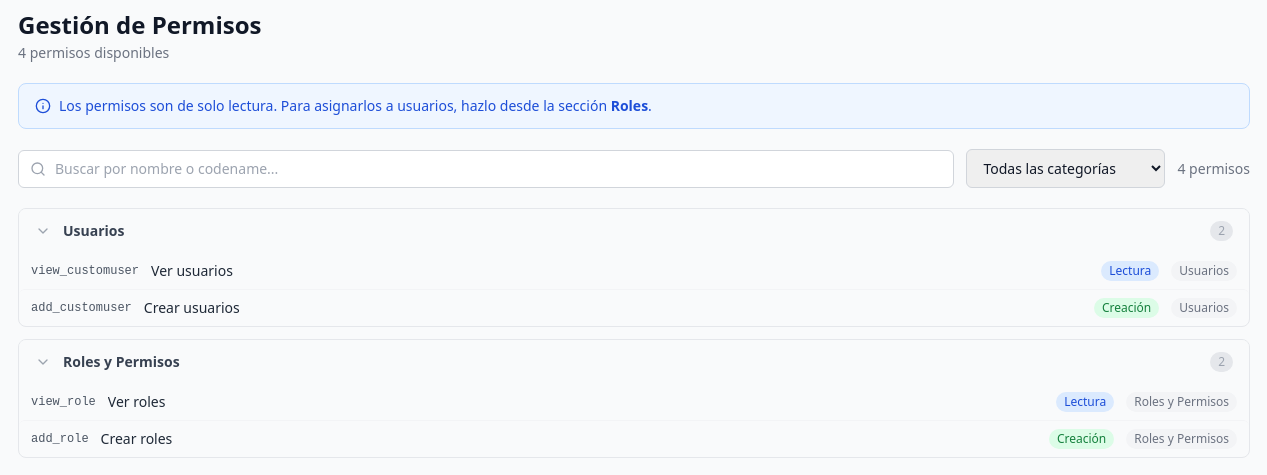
it: PermissionsPage › search filter narrows visible permissions
The width and height of the screenshot is (1267, 475).
# 'view_custom' matches 'view_customuser' but not 'add_customuser' or 'view_role'
In the field with placeholder "Buscar por nombre o codename...": (486, 168) x1=18 y1=150 x2=954 y2=188, type "view_custom"
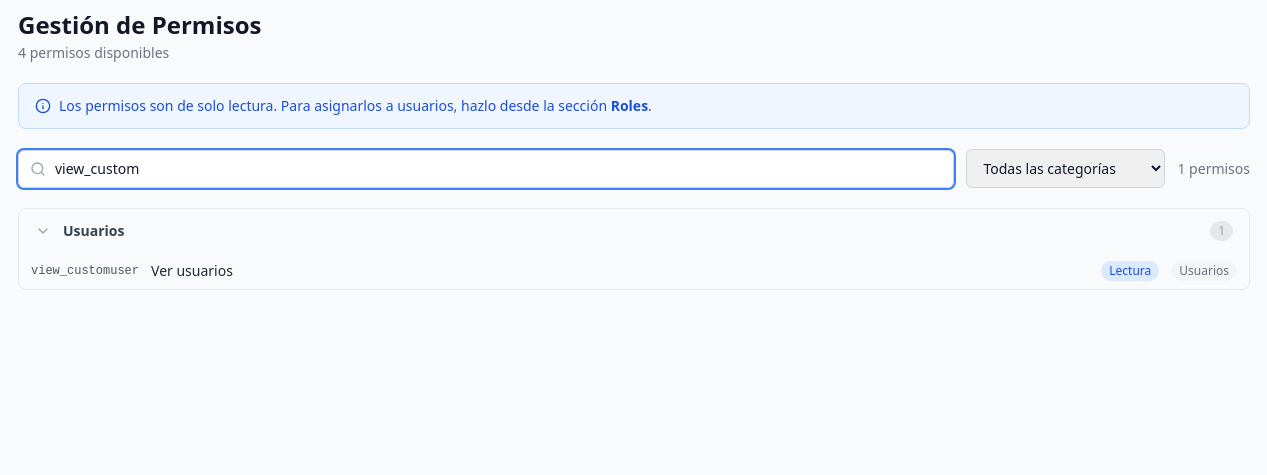
Expected: the text "view_customuser" is shown, x1=31 y1=263 x2=139 y2=279
Result: the text "add_customuser" is gone
Result: the text "view_role" is gone
